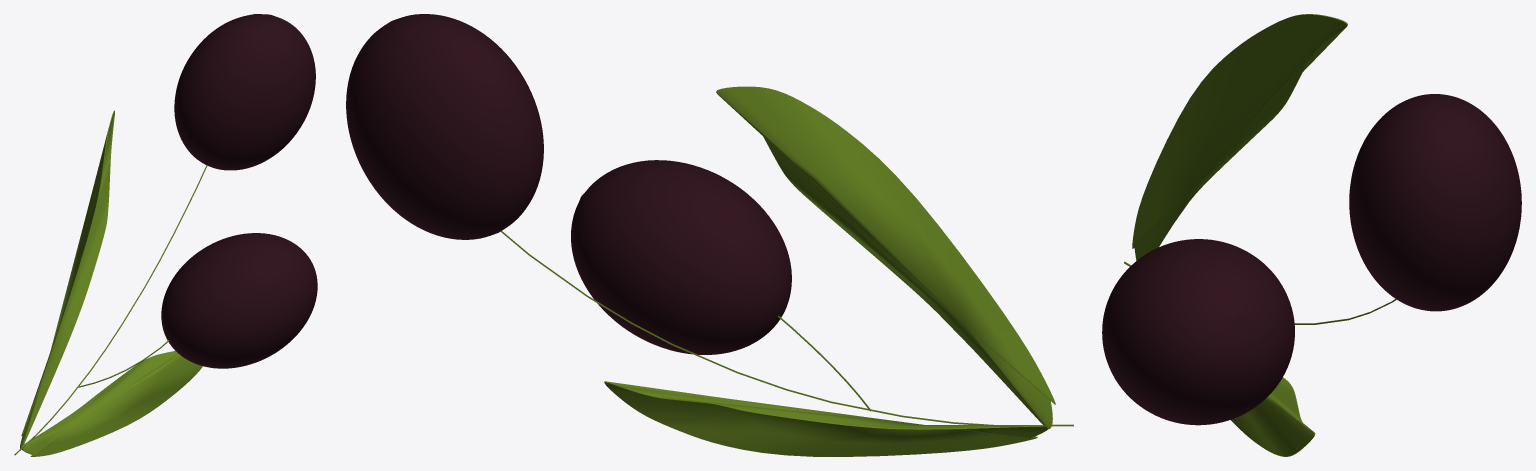
Rendered from olive.obj.
3 renders of one model, left to right at view 1: azimuth 30°, elevation 25°; view 2: azimuth 150°, elevation 25°; view 3: azimuth 270°, elevation 25°, orthographic. The views are drawn at different scales.
Visible parts, largest first — view 1: Sphere, Sphere.1, Cap_1, Cap_2_1, Cap_1_1, Sweep, Extrude_1; view 2: Sphere, Sphere.1, Cap_1_1, Cap_2, Cap_1, Sweep; view 3: Sphere, Sphere.1, Cap_2_1, Cap_1.
Boxes of the visible parts, <box> form: Sphere: <box>174,14,315,170</box>; Sphere.1: <box>161,233,317,368</box>; Cap_1: <box>21,351,202,456</box>; Cap_2_1: <box>20,111,114,447</box>; Cap_1_1: <box>25,119,113,424</box>; Sweep: <box>15,165,207,454</box>; Extrude_1: <box>20,110,114,448</box>; Sphere: <box>346,14,543,239</box>; Sphere.1: <box>571,160,791,354</box>; Cap_1_1: <box>716,87,1055,428</box>; Cap_2: <box>604,382,1048,456</box>; Cap_1: <box>608,381,1036,436</box>; Sweep: <box>500,231,1073,426</box>; Sphere: <box>1349,94,1521,311</box>; Sphere.1: <box>1102,239,1294,425</box>; Cap_2_1: <box>1132,14,1346,260</box>; Cap_1: <box>1231,377,1314,456</box>.
Size of the model in its own units: 493 by 363 by 303.
